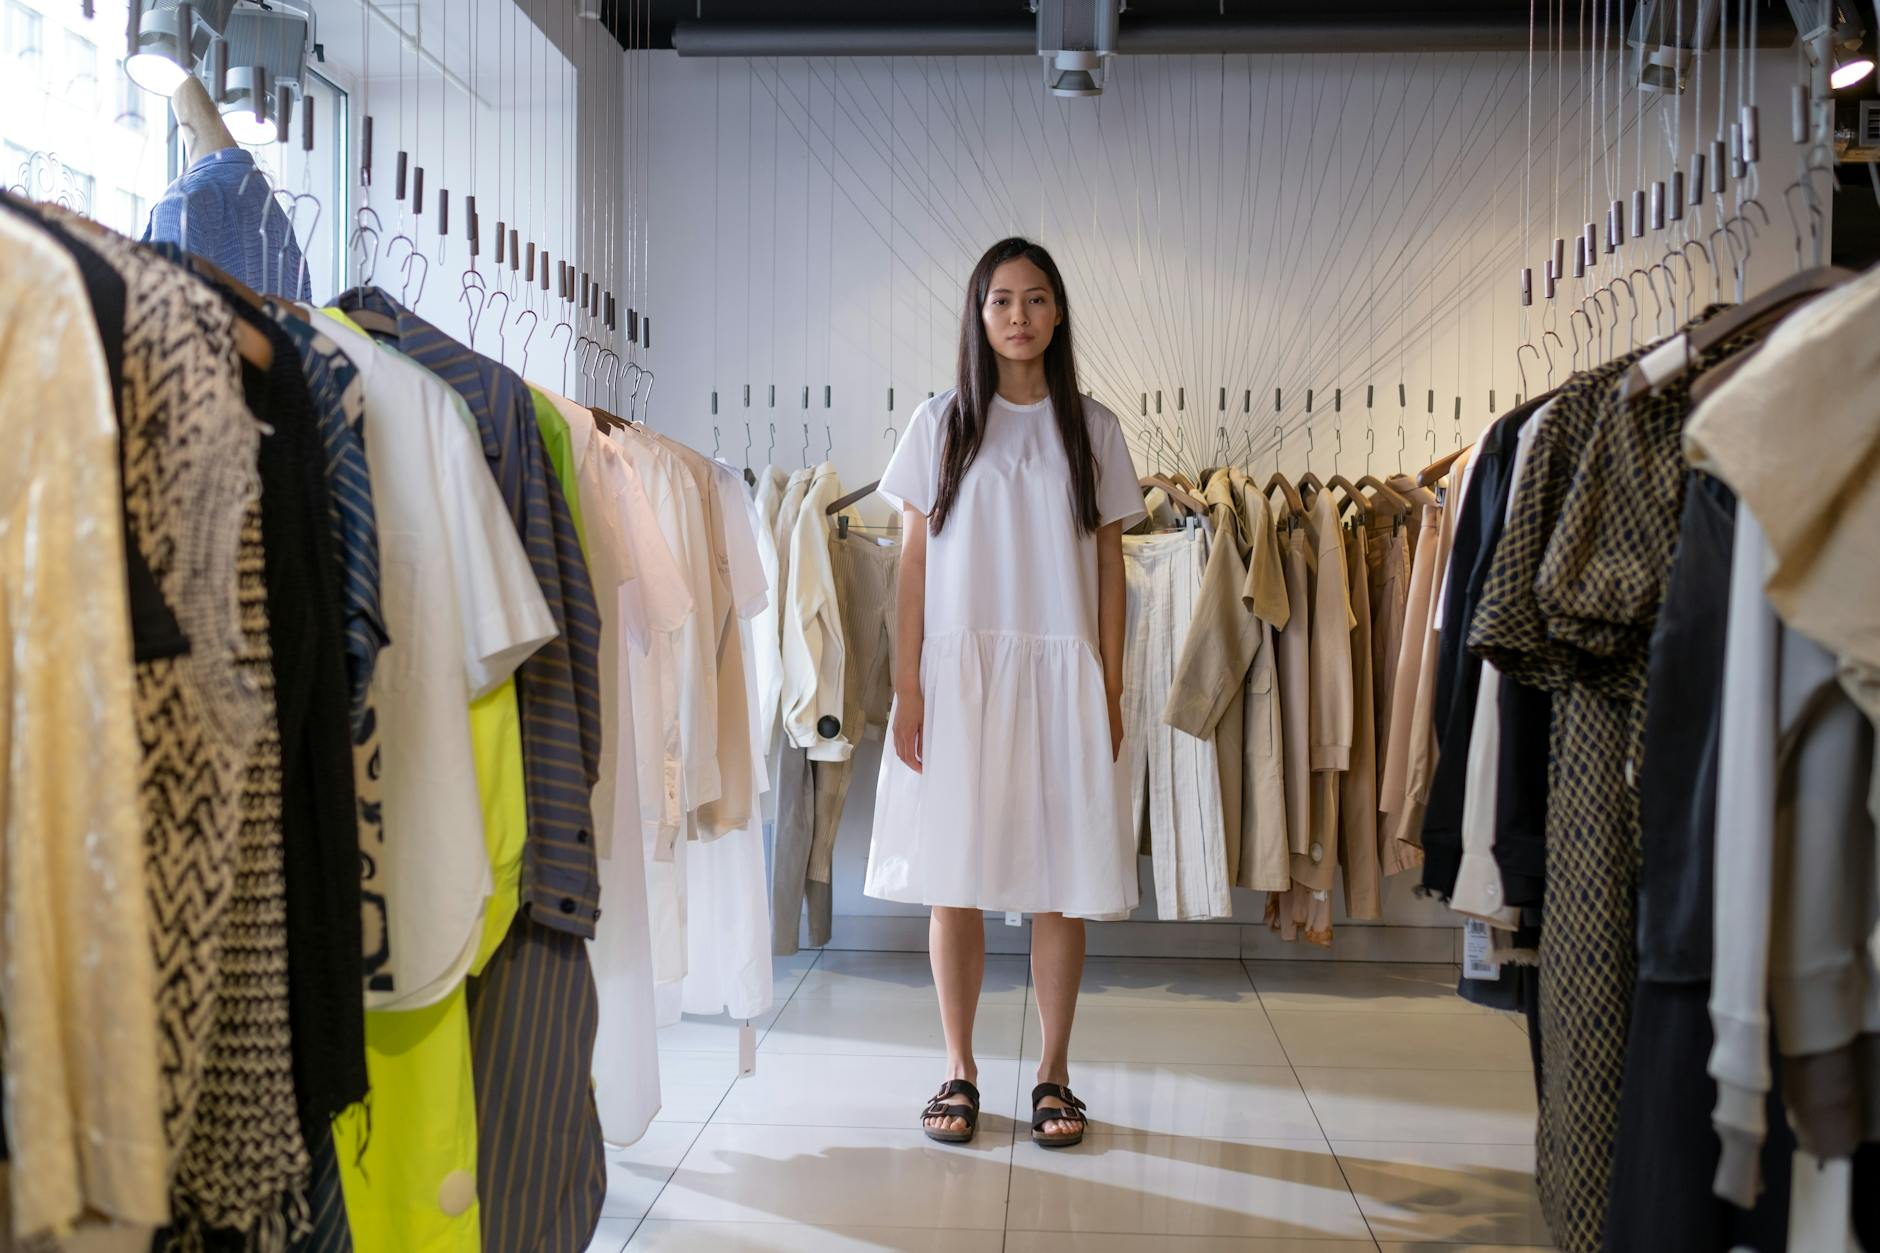opened_foot: (1022, 1067, 1096, 1150), (916, 1068, 991, 1144)
short_medium_skirt: (868, 647, 1149, 919)
